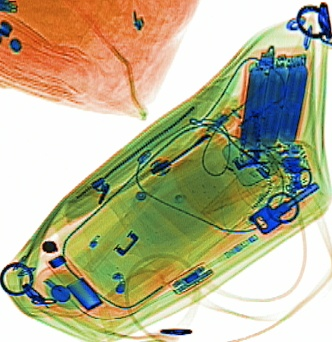powerbank: (232, 45, 313, 151)
